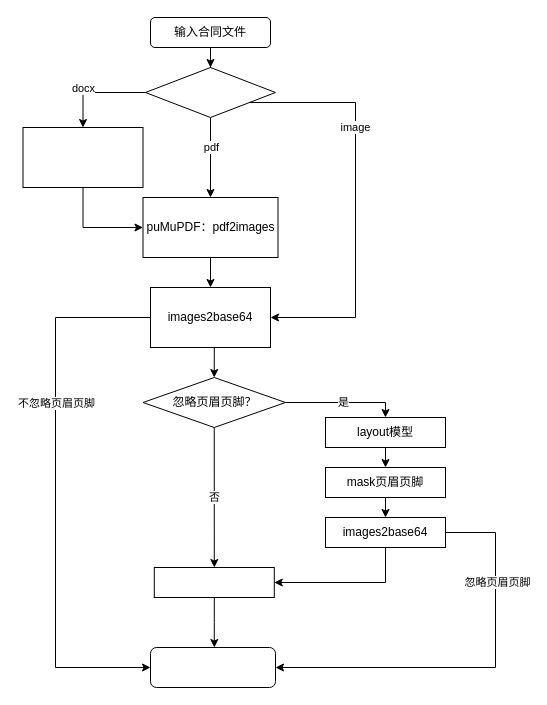
The diagram is 547 pixels wide and 705 high, and some of its shapes have lost their labels. The centre of each missing label's shape, as x and y in pixels:
"Libreoffice：docx2pdf" belongs at (x=82, y=157).
"OCR_results images_base64" belongs at (x=213, y=667).
"OCR模型" belongs at (x=213, y=582).
"合同文件格式？" belongs at (x=210, y=92).
